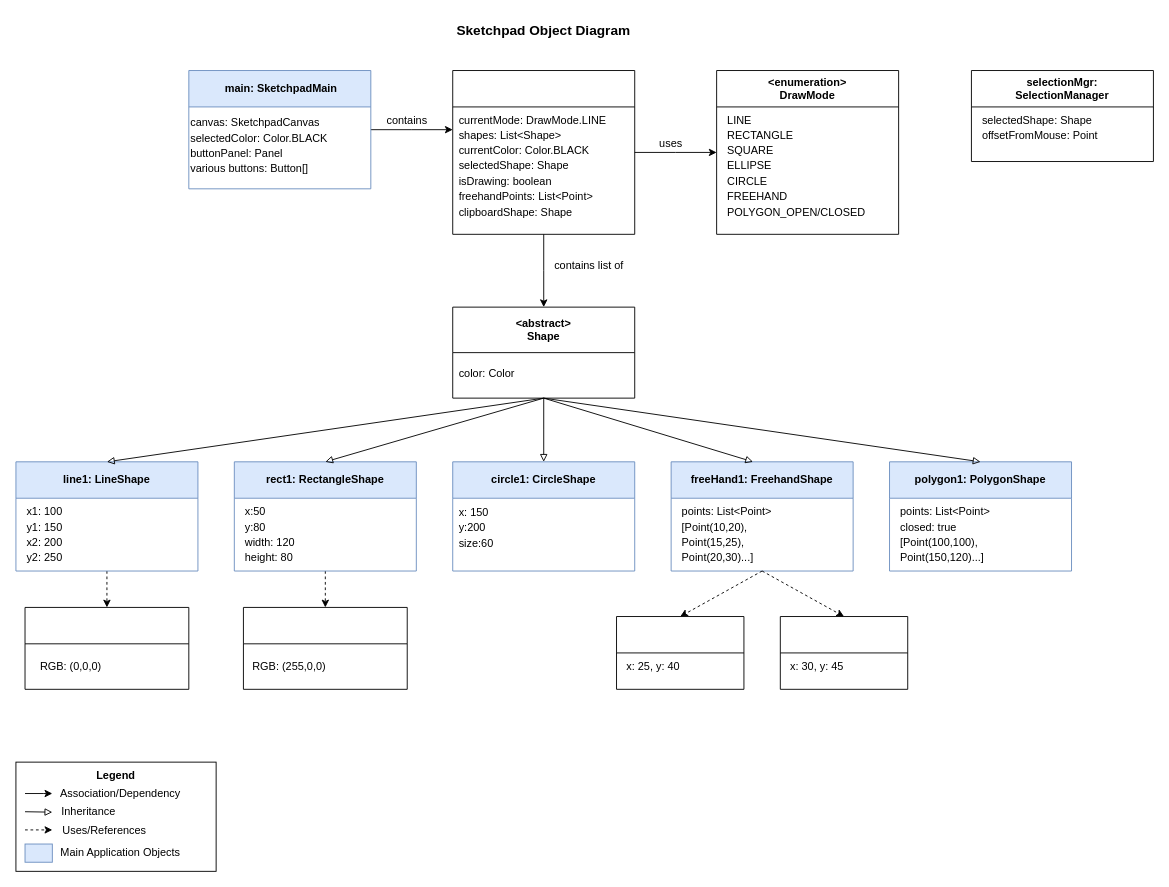
Image size: 1169x887. Some labels were removed from this diagram. Each missing label, with the box of its shape:
canvas: SketchpadCanvas: (452, 70, 635, 234)
Color: BLACK: (24, 607, 189, 689)
Color: RED: (243, 607, 407, 689)
point1: Point: (616, 616, 744, 689)
point2: Point: (779, 616, 908, 689)
